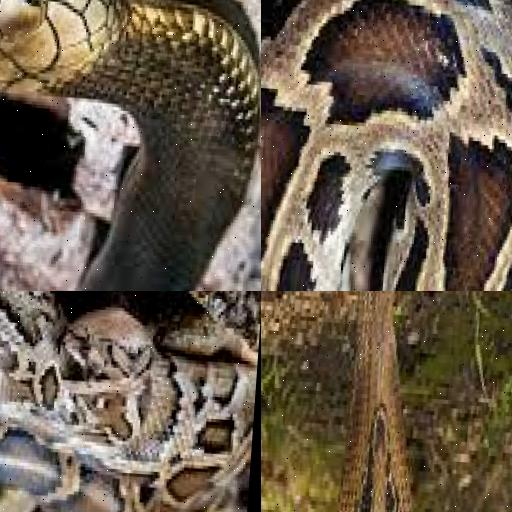snake: (0, 0, 261, 291), (261, 0, 512, 291), (0, 291, 261, 512), (261, 291, 512, 512)
